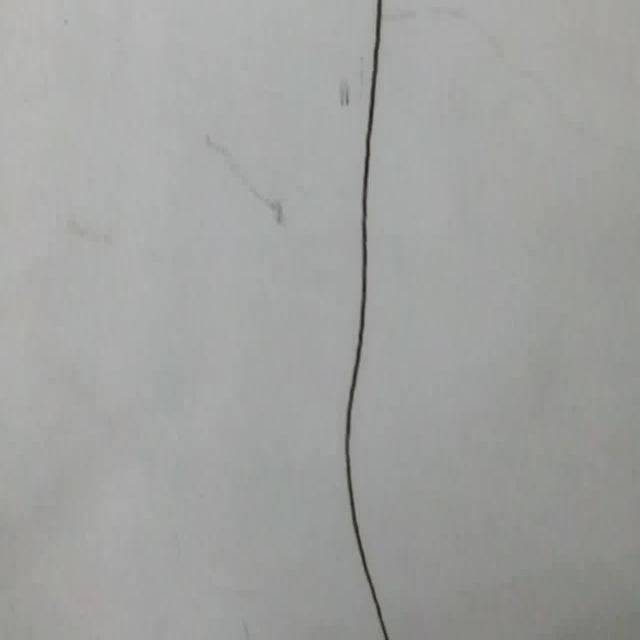Crack: (333, 10, 416, 640), (389, 0, 601, 114)
